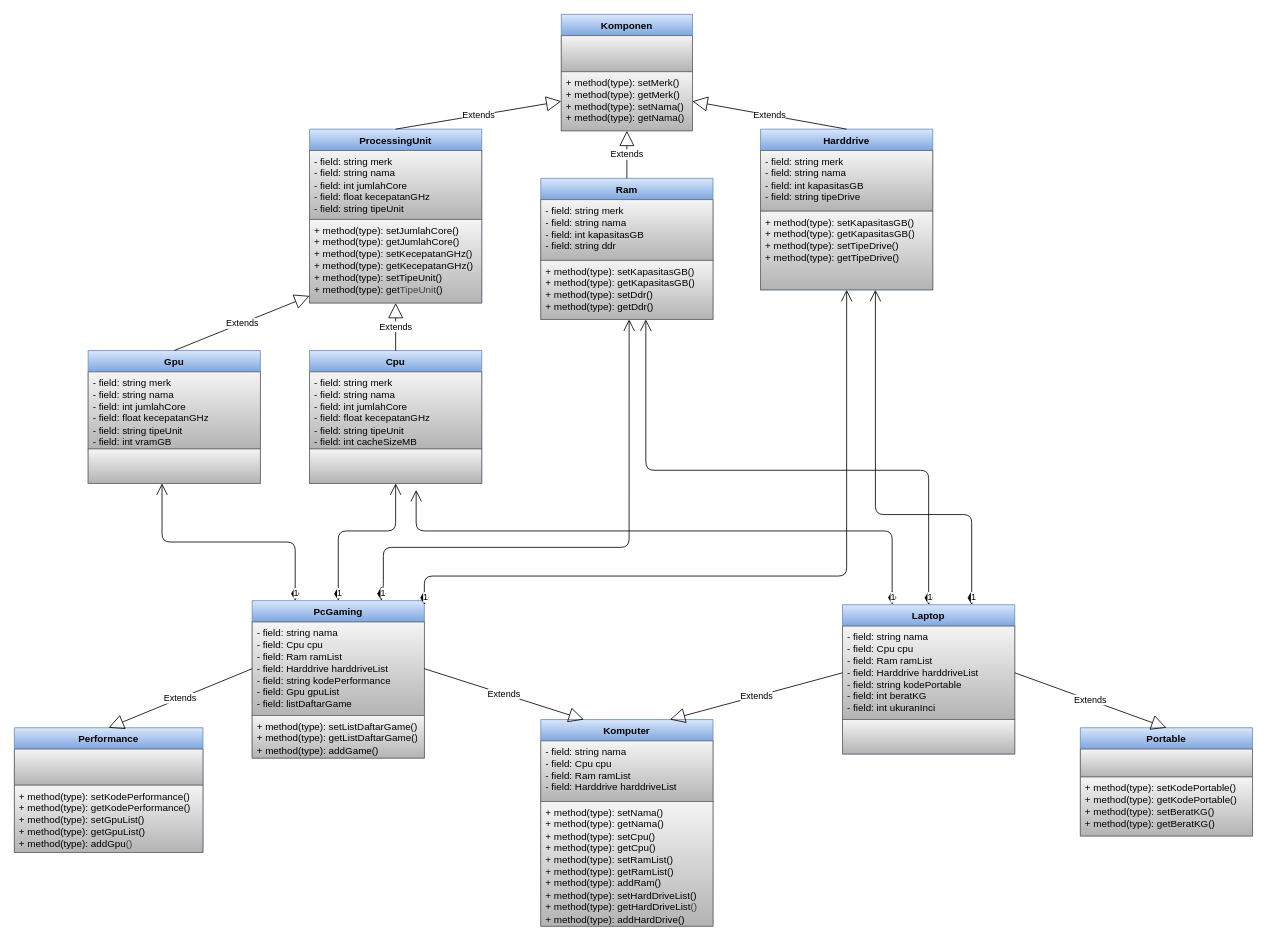
This 1267x943 diagram has some shape labels left out. Here are the shapes that lost their labels. From the top down, the centre of each, then its label:
At (626,53): "- field: string merk - field: string nama".
At (173,465): "+ method(type): setV ramGB () + method(type): getV ramGB ()".
At (395,465): "+ method(type): set cacheSizeMB () + method(type): get cacheSizeMB ()".
At (928,736): "+ method(type): setUkuranInci() + method(type): getUkuranInci()".
At (108,766): "- field: string kodePerformance - field: Gpu gpuList".
At (1166,762): "- field: string kodePortable - field: int beratKG".
